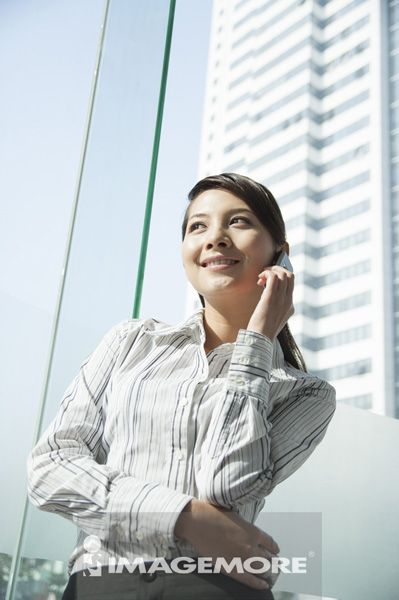talk: (182, 206, 297, 341)
